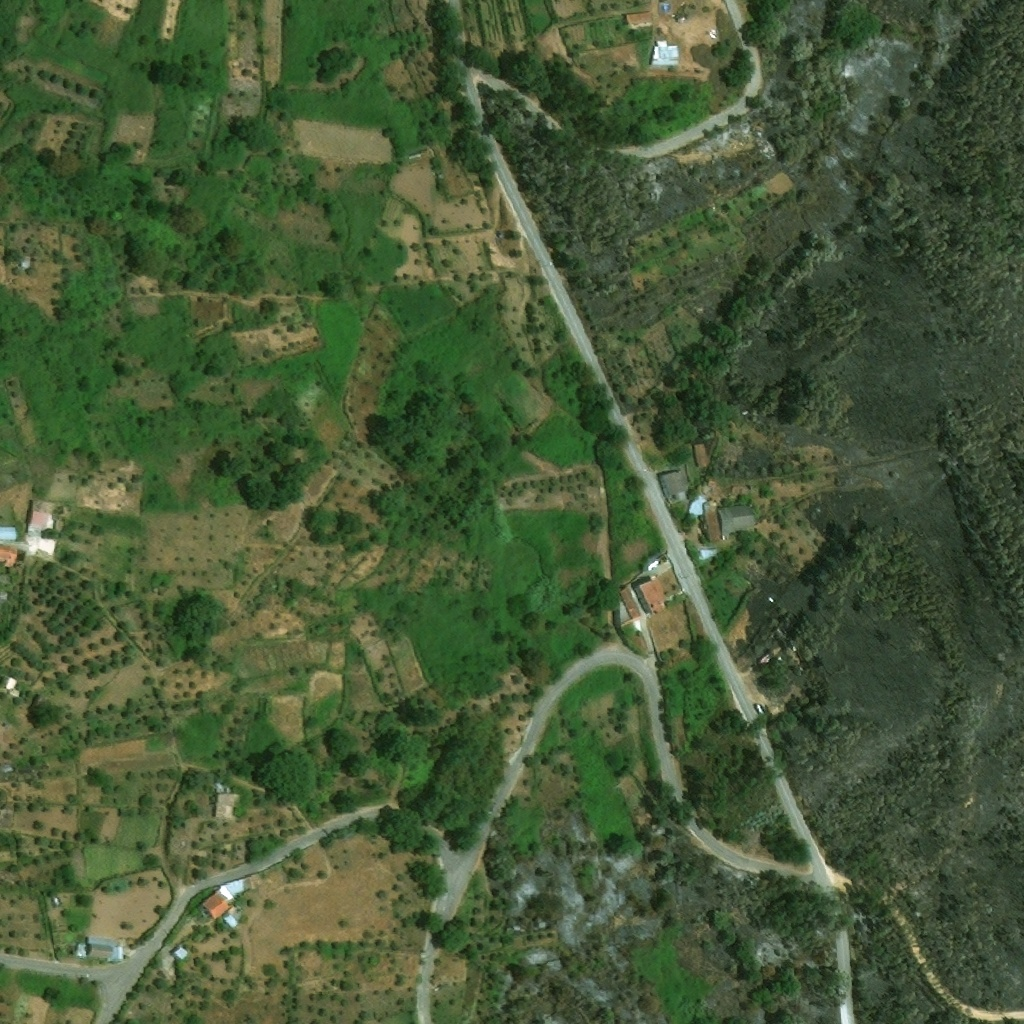0 no-damage: (201, 878, 246, 919), (689, 495, 720, 542), (719, 505, 755, 540), (634, 578, 667, 616), (72, 937, 122, 961), (615, 588, 643, 629), (658, 468, 689, 502), (26, 501, 52, 533), (650, 39, 679, 65), (214, 794, 238, 820), (626, 11, 653, 27), (694, 444, 712, 467), (0, 544, 18, 567), (221, 911, 239, 929), (173, 945, 189, 960), (698, 548, 717, 560), (0, 526, 16, 540), (4, 677, 18, 691), (19, 260, 30, 269), (215, 786, 226, 793), (0, 591, 7, 598)
3 destroyed: (761, 136, 777, 156)
4 un-classified: (707, 475, 750, 500), (744, 676, 769, 702), (1, 574, 10, 583)
